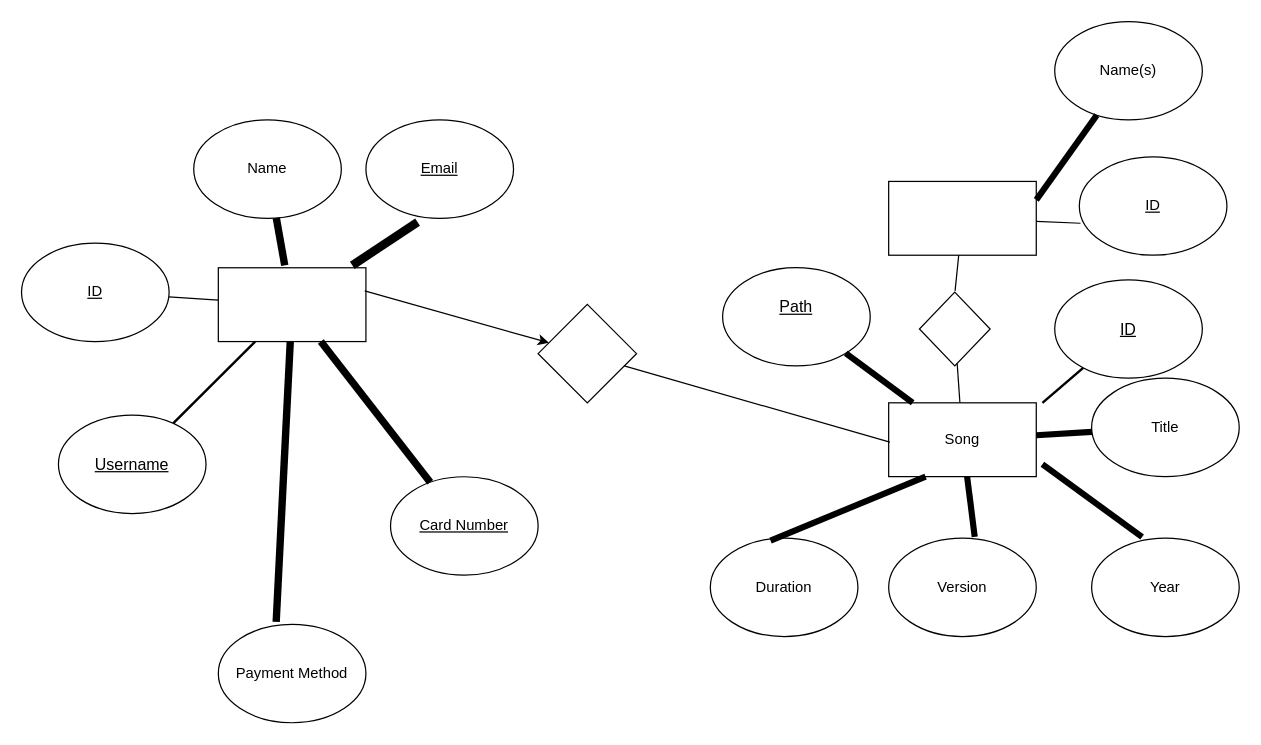
Some shapes in this 1261 by 745 pixel diagram are drawn without their labels. Each missing label, with the centre of its shape:
"Artist" belongs at (961,217).
"Have" belongs at (954,328).
"Stream" belongs at (587,353).
"User" belongs at (291,304).
